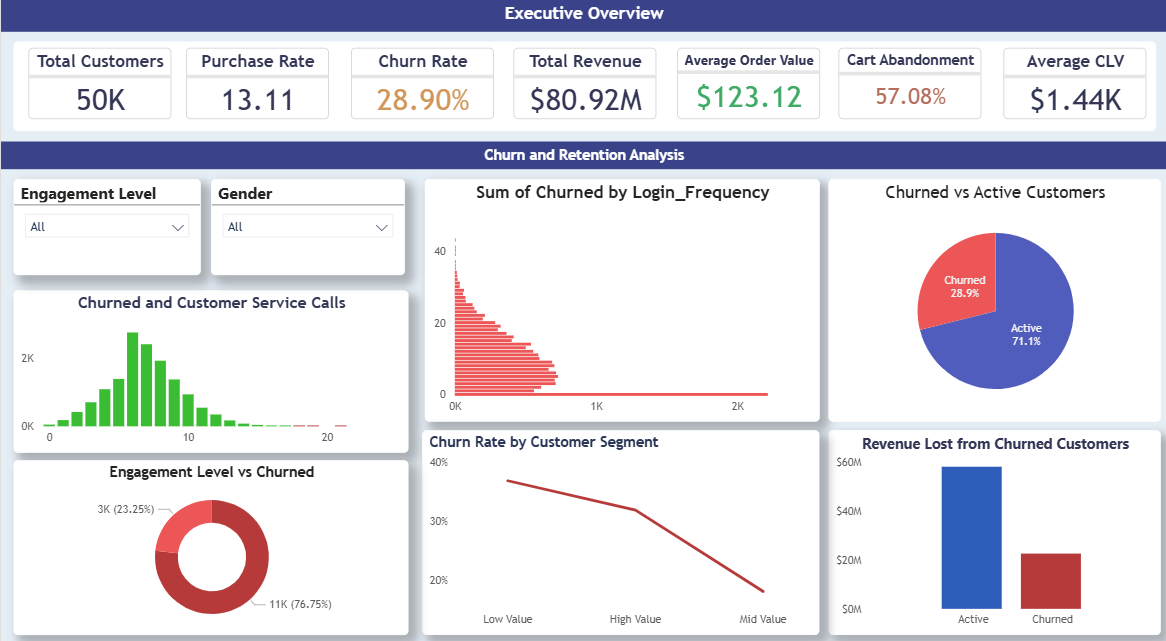

This screenshot's page, from the dashboard's own definition file:
{"tool":"powerbi","page":{"name":"Churn & Retention Analysis","canvas":[1280,720],"ordinal":2},"visuals":[{"type":"textbox","box":[0,11,1280.3,35.7],"z":0},{"type":"textbox","box":[0,167.4,1280.3,30.2],"z":1000},{"type":"textbox","box":[13.7,57.6,1254.2,98.8],"z":2000},{"type":"card","title":"Purchase Rate","fields":{"Values":["ecommerce_kpi_data.Purchase Rate %"]},"box":[203.1,64.5,156.4,78.2],"z":3000},{"type":"card","title":"Total Customers","fields":{"Values":["ecommerce_kpi_data.Total Customers"]},"box":[30.2,64.5,156.4,78.2],"z":4000},{"type":"card","title":"Churn Rate","fields":{"Values":["ecommerce_kpi_data.Churn Rate"]},"box":[384.2,64.5,156.4,78.2],"z":5000},{"type":"card","title":"Cart Abandonment","fields":{"Values":["ecommerce_kpi_data.Average Cart Abandonment Rate"]},"box":[919.4,64.5,156.4,78.2],"z":6000},{"type":"card","title":"Total Revenue","fields":{"Values":["Sum(ecommerce_kpi_data.Revenue)"]},"box":[562.6,64.5,156.4,78.2],"z":7000},{"type":"card","title":"Average Order Value","fields":{"Values":["Avg(ecommerce_kpi_data.Average_Order_Value)"]},"box":[742.4,64.5,156.4,78.2],"z":8000},{"type":"card","title":"Average CLV","fields":{"Values":["Avg(ecommerce_kpi_data.Lifetime_Value)"]},"box":[1100.5,64.5,156.4,78.2],"z":9000},{"type":"columnChart","title":"Churned and Customer Service Calls","fields":{"Y":["Sum(ecommerce_kpi_data.Churned)"],"Category":["ecommerce_kpi_data.Customer_Service_Calls"]},"box":[13.7,330.7,433.6,178.4],"z":10000},{"type":"barChart","fields":{"Y":["Sum(ecommerce_kpi_data.Churned)"],"Category":["ecommerce_kpi_data.Login_Frequency"]},"box":[465.2,208.6,433.6,266.2],"z":11000},{"type":"pieChart","title":"Churned vs Active Customers","fields":{"Category":["ecommerce_kpi_data.Churn_Status"],"Y":["ecommerce_kpi_data.Total Customers"]},"box":[908.4,208.6,365,266.2],"z":12000},{"type":"columnChart","title":"Revenue Lost from Churned Customers","fields":{"Category":["ecommerce_kpi_data.Churn_Status"],"Y":["ecommerce_kpi_data.Total Revenue"]},"box":[908.4,484.4,365,225],"z":13000},{"type":"lineChart","title":"Churn Rate by Customer Segment","fields":{"Category":["ecommerce_kpi_data.customer_segment"],"Y":["ecommerce_kpi_data.Churn Rate"]},"box":[462.4,484.4,436.4,225],"z":14000},{"type":"donutChart","title":"Engagement Level vs Churned","fields":{"Y":["Sum(ecommerce_kpi_data.Churned)"],"Category":["ecommerce_kpi_data.Engagement_Level"]},"box":[13.7,517.3,433.6,192.1],"z":15000},{"type":"slicer","title":"Engagement Level","fields":{"Values":["ecommerce_kpi_data.Engagement_Level"]},"box":[13.7,208.6,205.8,105.7],"z":16000},{"type":"slicer","title":"Gender","fields":{"Values":["ecommerce_kpi_data.Gender"]},"box":[230.5,208.6,212.7,105.7],"z":17000}]}

Visuals, with their boxes in screenshot pixels (x1, y1, x2, y2), scaled from the page's 1280x720 canvas onto the 1166x641 screenshot:
textbox: (x1=0, y1=10, x2=1165, y2=42)
textbox: (x1=0, y1=149, x2=1165, y2=176)
textbox: (x1=12, y1=51, x2=1155, y2=139)
"Purchase Rate" card: (x1=185, y1=57, x2=327, y2=127)
"Total Customers" card: (x1=28, y1=57, x2=170, y2=127)
"Churn Rate" card: (x1=350, y1=57, x2=492, y2=127)
"Cart Abandonment" card: (x1=838, y1=57, x2=980, y2=127)
"Total Revenue" card: (x1=512, y1=57, x2=655, y2=127)
"Average Order Value" card: (x1=676, y1=57, x2=819, y2=127)
"Average CLV" card: (x1=1002, y1=57, x2=1145, y2=127)
"Churned and Customer Service Calls" columnChart: (x1=12, y1=294, x2=407, y2=453)
barChart - Sum(ecommerce_kpi_data.Churned) x ecommerce_kpi_data.Login_Frequency: (x1=424, y1=186, x2=819, y2=423)
"Churned vs Active Customers" pieChart: (x1=827, y1=186, x2=1160, y2=423)
"Revenue Lost from Churned Customers" columnChart: (x1=827, y1=431, x2=1160, y2=632)
"Churn Rate by Customer Segment" lineChart: (x1=421, y1=431, x2=819, y2=632)
"Engagement Level vs Churned" donutChart: (x1=12, y1=461, x2=407, y2=632)
"Engagement Level" slicer: (x1=12, y1=186, x2=200, y2=280)
"Gender" slicer: (x1=210, y1=186, x2=404, y2=280)
